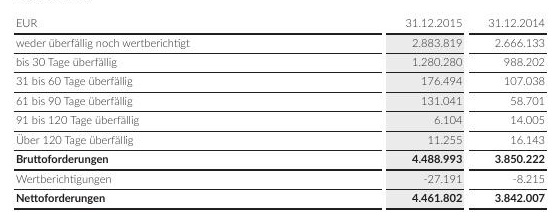table: (0, 0, 559, 222)
